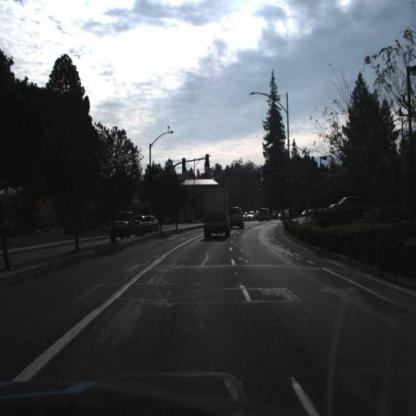car: (201, 184, 235, 240), (329, 196, 377, 221), (109, 210, 142, 240), (110, 210, 141, 240), (137, 213, 161, 236), (230, 206, 247, 232), (257, 206, 272, 225), (280, 204, 293, 222)
truck: (203, 186, 231, 241)
